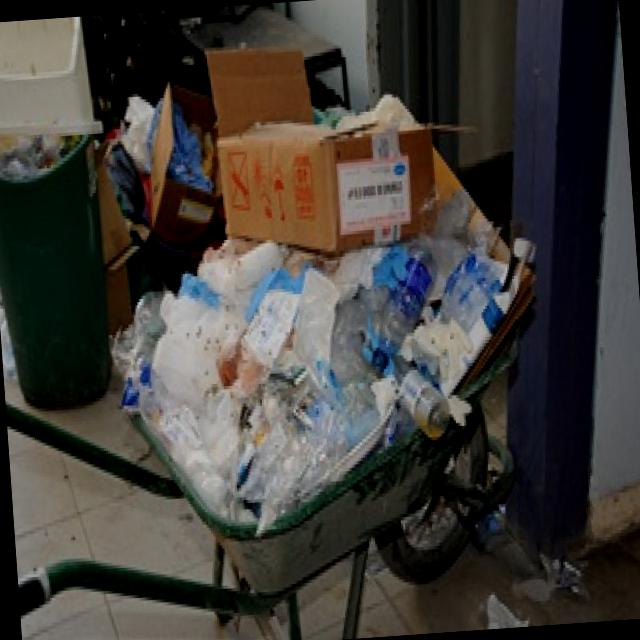garbage: (106, 58, 547, 550), (0, 15, 128, 430)
